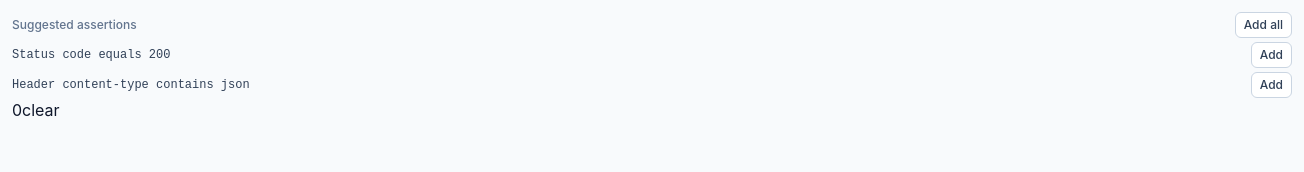
Test case: SuggestionList › adds one suggestion and marks it as added
The image size is (1304, 172).
Click the button "Add" in the row of "Status code equals 200". click: (1271,55)
box: [1251,42,1292,68]
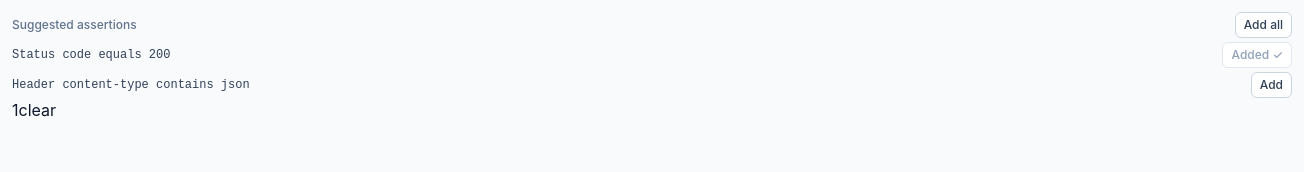
Result: the text named "added count" reads "1" at [12,100,18,120]
